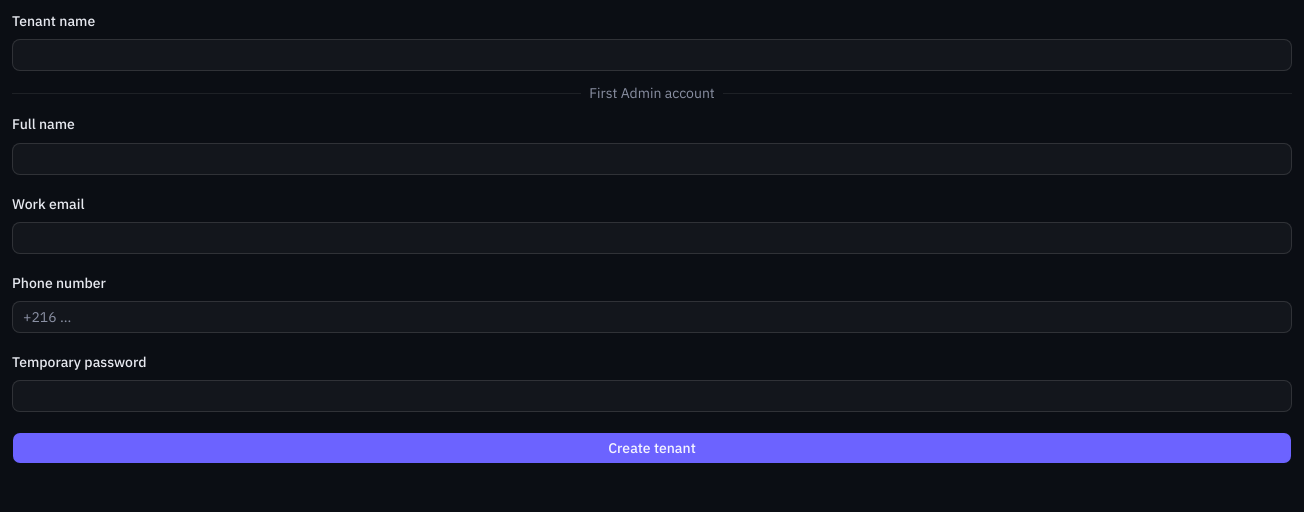
Test: CreateTenantForm › shows a validation error instead of submitting when the tenant name is empty
In the field labelled "Full name": (652, 158) [12, 142, 1292, 174], type "Sara Khelifi"
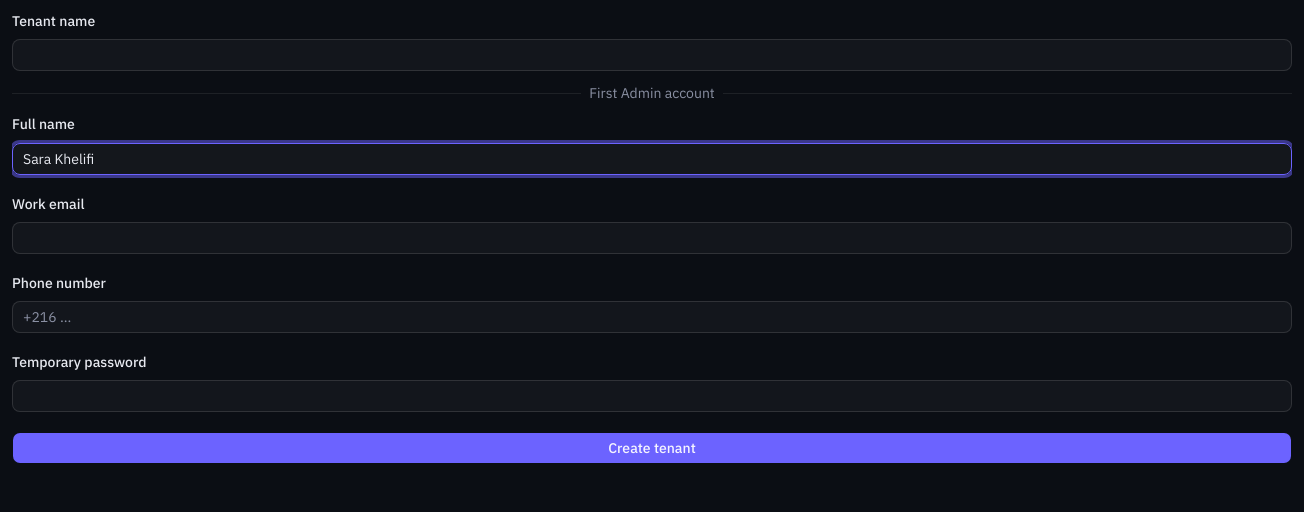
In the field labelled "Work email": (652, 238) [12, 222, 1292, 254], type "sara@meridian.test"
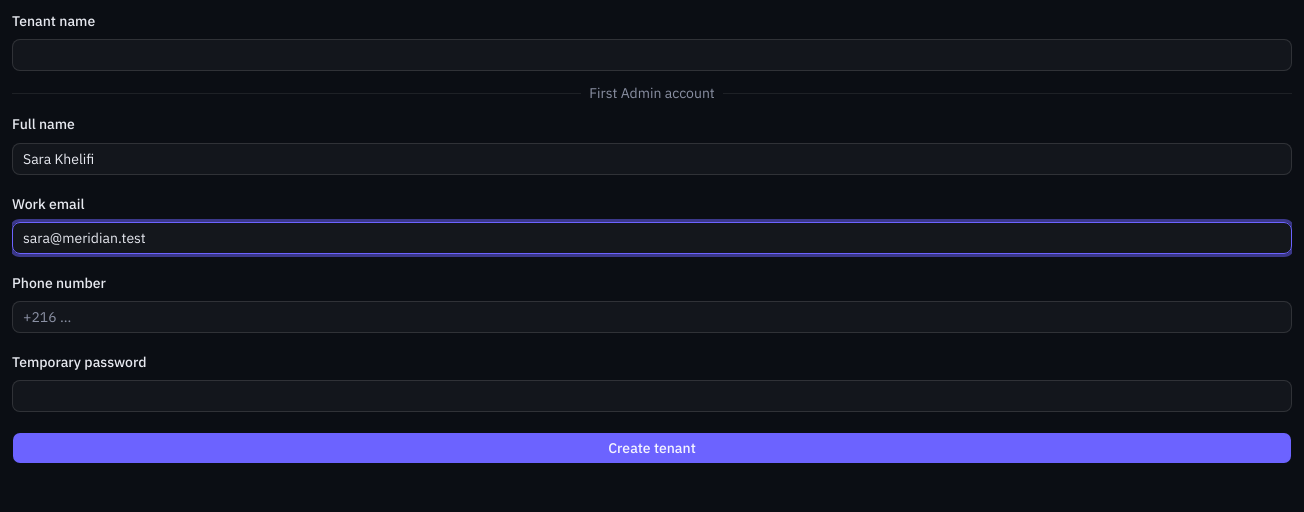
In the field labelled "Phone number": (652, 317) [12, 301, 1292, 333], type "+21620000009"
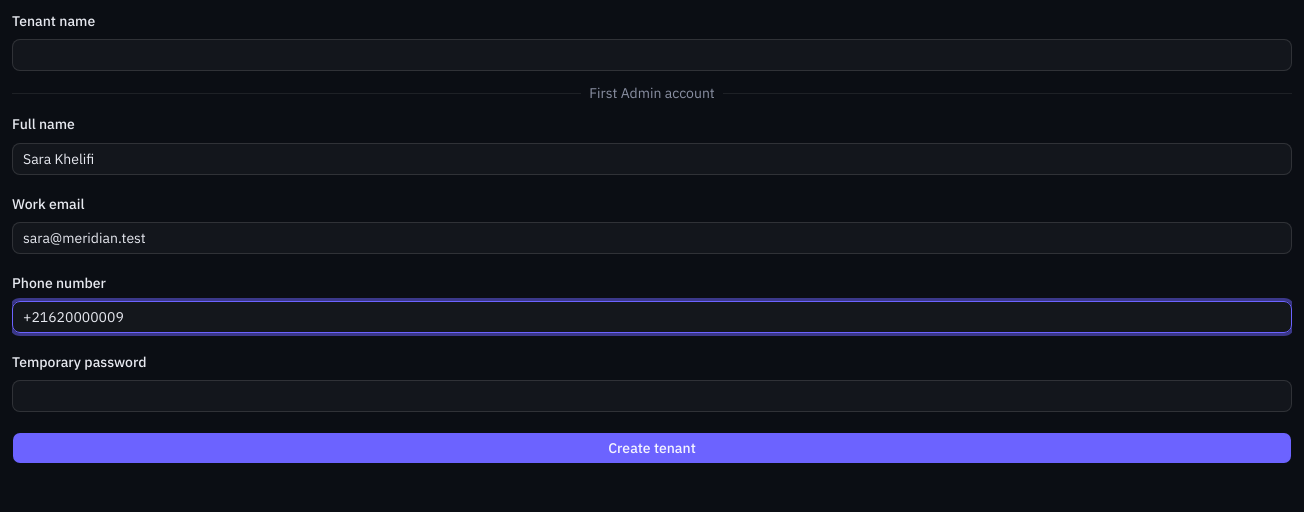
In the password field labelled "Temporary password": (652, 396) [12, 380, 1292, 412], type "Tempo123!"
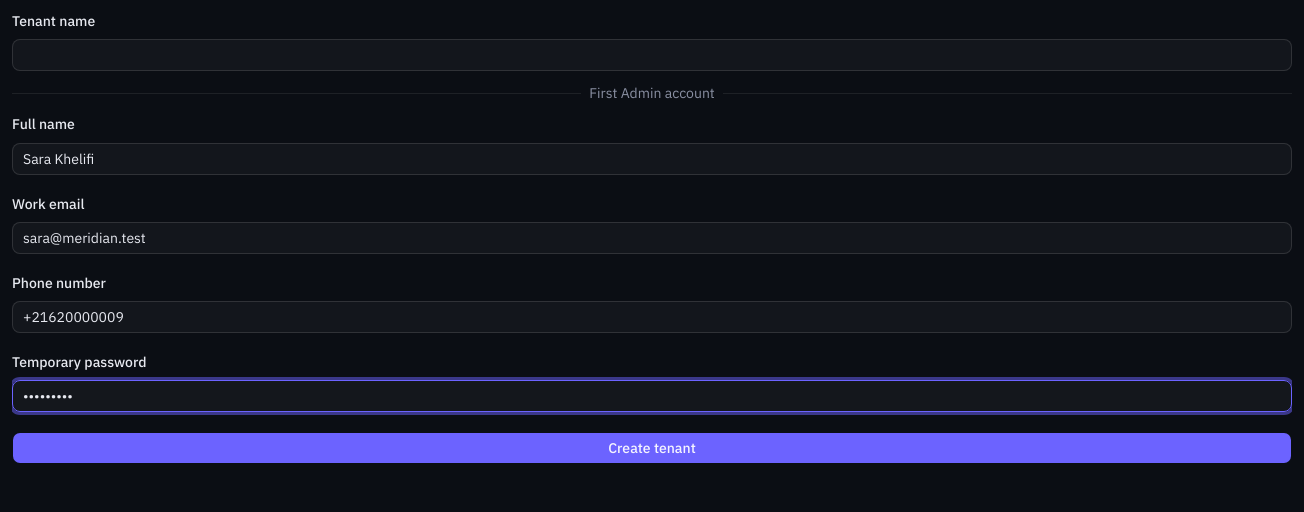
Click the button "Create tenant": (652, 448) [12, 432, 1292, 464]
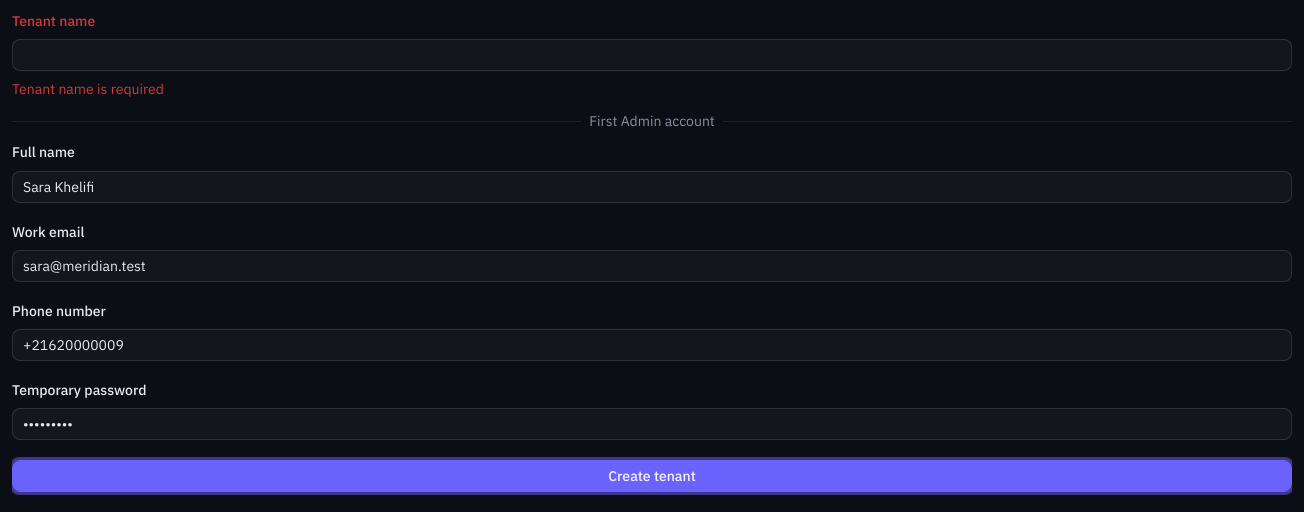
Check: the text "Tenant name is required" is shown, box [12, 80, 164, 98]
